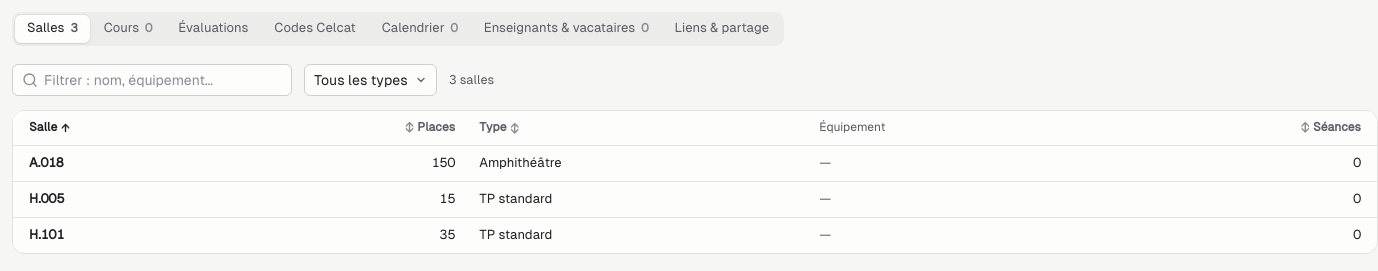
Test: ReferenceView — onglets, filtres et tri › should show readable room types and filter rooms by text
Expected: the number of cells "TP standard" is 2, [467,181,807,217]; [467,217,807,253]
Type "a.0" into the search field named "Filtrer les salles".
click(152, 80); type("a.0")  # box [12,64,292,96]
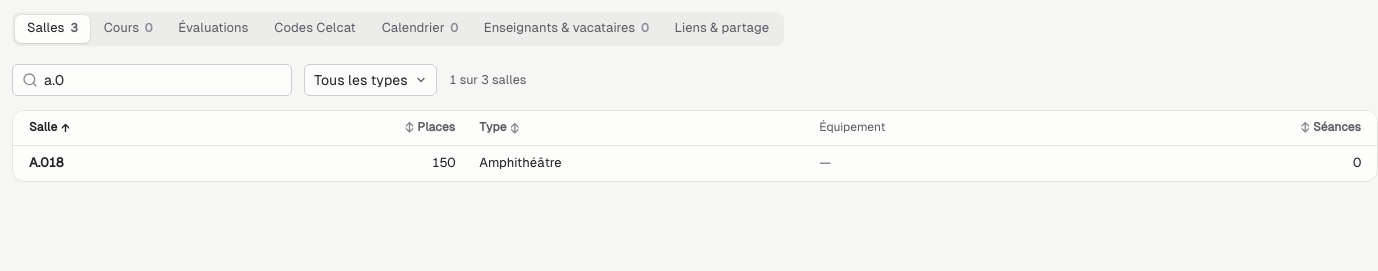
Expected: the button "A.018" is shown, [29,154,64,173]
Expected: the button "H.101" is gone
